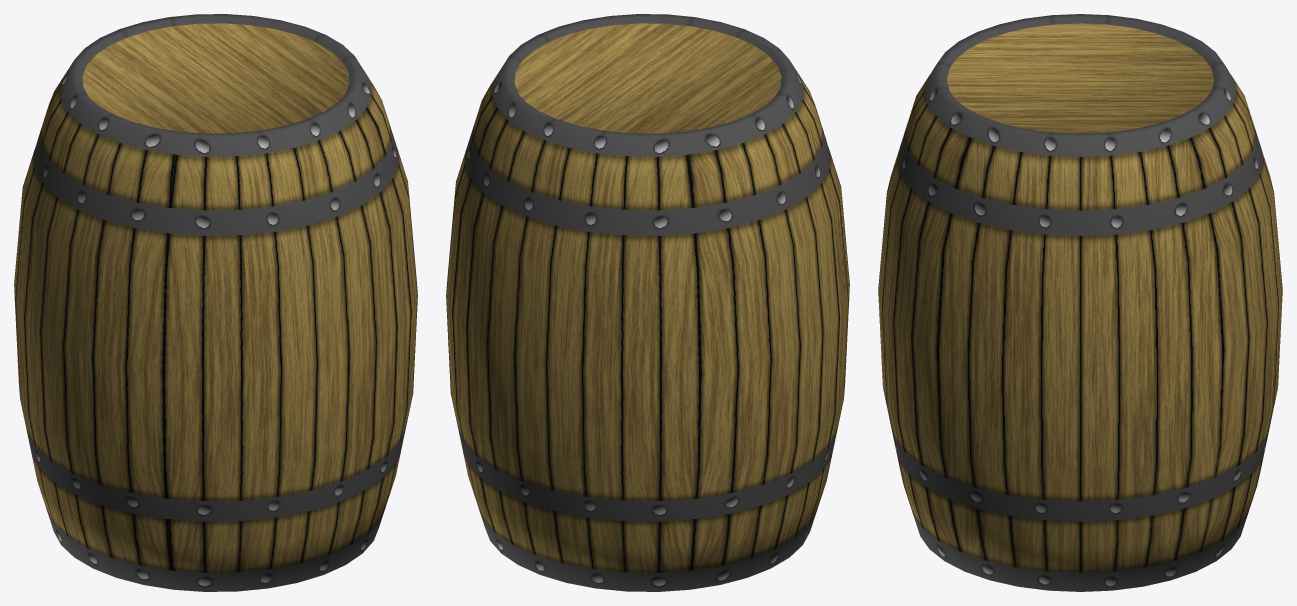
File: BarrelClosed.fbx
3 views of the same model, side by side, from view 1: azimuth 30°, elevation 25°; view 2: azimuth 150°, elevation 25°; view 3: azimuth 270°, elevation 25° (orthographic).
Visible parts, largest first — view 1: BarrelClosed; view 2: BarrelClosed; view 3: BarrelClosed.
Boxes of the visible parts, left/top/right/bottom form: BarrelClosed: left=14, top=14, right=417, bottom=591; BarrelClosed: left=446, top=14, right=849, bottom=591; BarrelClosed: left=878, top=14, right=1282, bottom=591.
Size of the model in its own units: 169 by 207 by 169.
1 material, 1 textured.
